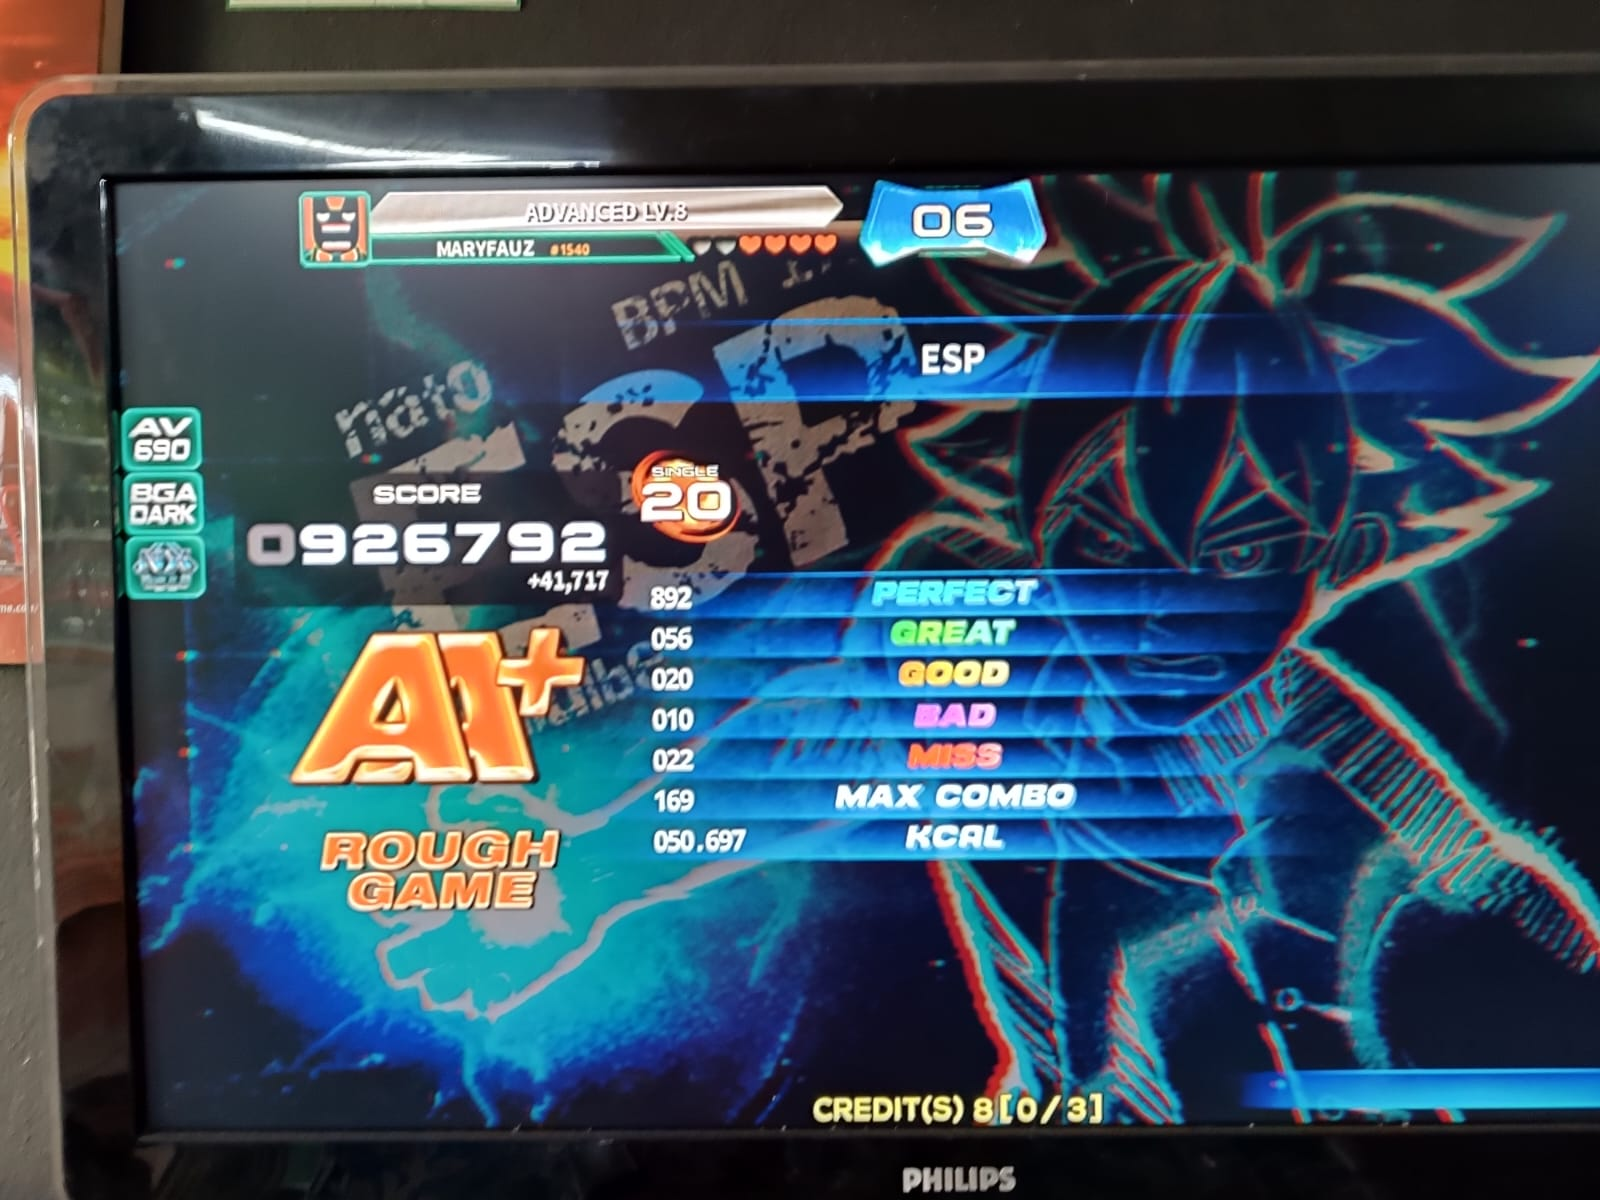difficulty: (641, 437, 750, 558)
fullscore: (0, 175, 1329, 1200)
rank: (251, 606, 596, 814)
score: (234, 473, 627, 584)
song_name: (719, 316, 1305, 406)
